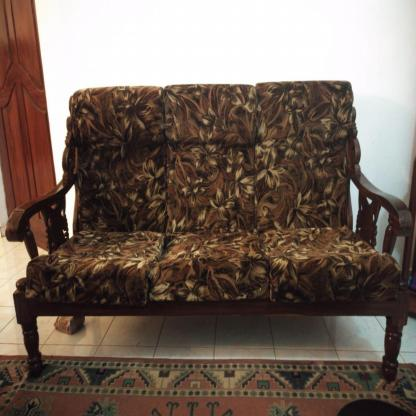Sofa: (8, 85, 406, 374)
